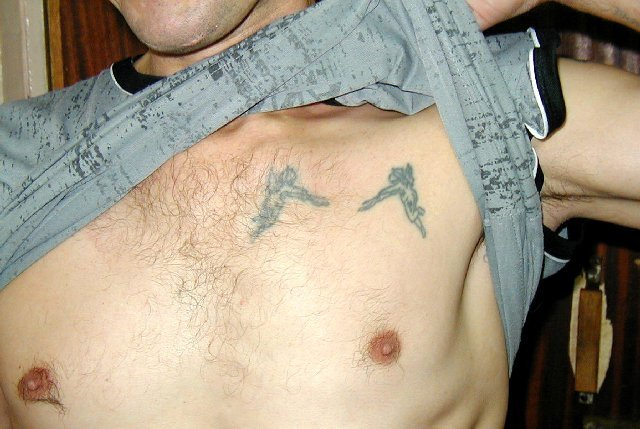tatu1_angel: (248, 160, 434, 248)
